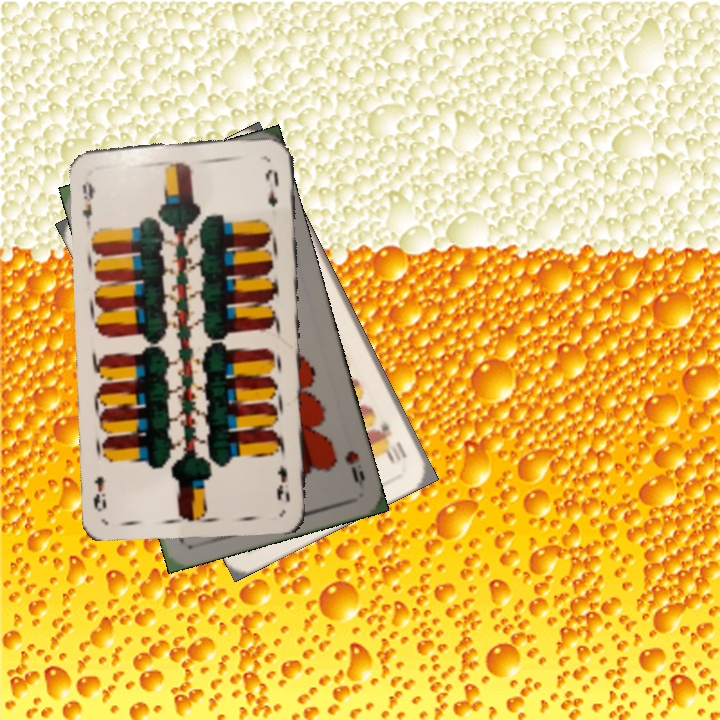E10: (374, 417, 410, 465)
E9: (79, 176, 98, 227), (273, 461, 292, 505)
H9: (341, 446, 368, 485)
